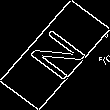N_SE: (20, 24, 90, 86)
